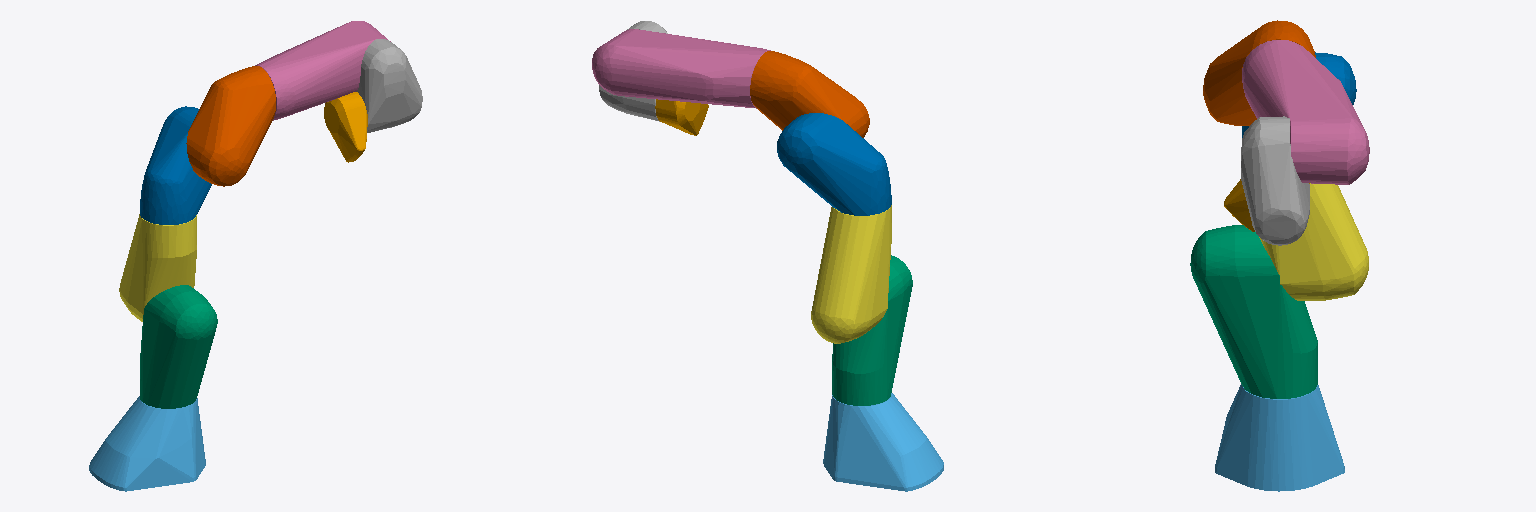
robot.urdf — fer:
<?xml version="1.0" ?>
<!-- =================================================================================== -->
<!-- |    This document was autogenerated by xacro from [local-path]/ws/franka/src/franka_description/robots/fer/fer.urdf.xacro | -->
<!-- |    EDITING THIS FILE BY HAND IS NOT RECOMMENDED                                 | -->
<!-- =================================================================================== -->
<robot name="fer">
  <!-- safety_distance: Minimum safety distance in [m] by which the collision volumes are expanded and which is enforced during robot motions -->
  <!-- arm_id: Namespace of the robot arm. Serves to differentiate between arms in case of multiple instances. -->
  <!-- joint_limits: description of the joint limits that comes from a YAML file. Example definition: ${xacro.load_yaml('$(find franka_description)/robots/fr3/joint_limits.yaml')} -->
  <!-- kinematics: description of the kinematics that comes from a YAML file. Example definition: ${xacro.load_yaml('$(find franka_description)/robots/fr3/kinematics.yaml')} -->
  <!-- inertials: description of the inertials that comes from a YAML file. Example definition: ${xacro.load_yaml('$(find franka_description)/robots/fr3/inertials.yaml')} -->
  <!-- dynamics: description of the dynamics that comes from a YAML file. Example definition: ${xacro.load_yaml('$(find franka_description)/robots/fr3/dynamics.yaml')} -->
  <link name="base">
      </link>
  <joint name="base_joint" type="fixed">
    <parent link="base"/>
    <child link="fer_link0"/>
    <origin rpy="0 0 0" xyz="0 0 0"/>
  </joint>
  <!-- sub-link defining detailed meshes for collision with environment -->
  <link name="fer_link0">
    <visual name="fer_link0_visual">
      <geometry>
        <mesh filename="../meshes/robot_arms/fer/visual/link0.dae"/>
      </geometry>
    </visual>
    
    <collision name="fer_link0_collision">
      <geometry>
        <mesh filename="../meshes/robot_arms/fer/collision/link0.obj"/>
      </geometry>
    </collision>
    <inertial>
      <origin rpy="0 0 0" xyz="-0.0172 0.0004 0.0745"/>
      <mass value="2.3966"/>
      <inertia ixx="0.009" ixy="0.0" ixz="0.002" iyy="0.0115" iyz="0.0" izz="0.0085"/>
    </inertial>
  </link>
  <!-- sub-link defining detailed meshes for collision with environment -->
  <link name="fer_link1">
    <visual name="fer_link1_visual">
      <geometry>
        <mesh filename="../meshes/robot_arms/fer/visual/link1.dae"/>
      </geometry>
    </visual>
    <collision name="fer_link1_collision">
      <geometry>
        <mesh filename="../meshes/robot_arms/fer/collision/link1.obj"/>
      </geometry>
    </collision>
    <inertial>
      <origin rpy="0 0 0" xyz="0.00033 -0.02204 -0.04762"/>
      <mass value="2.7907"/>
      <inertia ixx="0.01564782655" ixy="5.31236e-06" ixz="-3.676721e-05" iyy="0.01439883526" iyz="-0.00248480843" izz="0.00500443991"/>
    </inertial>
  </link>
  <joint name="fer_joint1" type="revolute">
    <origin rpy="0 0 0" xyz="0 0 0.333"/>
    <parent link="fer_link0"/>
    <child link="fer_link1"/>
    <axis xyz="0 0 1"/>
    <limit effort="87.0" lower="-2.8973" upper="2.8973" velocity="2.175"/>
    <safety_controller k_position="100.0" k_velocity="40.0" soft_lower_limit="-2.8973" soft_upper_limit="2.8973"/>
    <dynamics D="1" K="7000" damping="0.003" friction="0.2" mu_coulomb="0" mu_viscous="16"/>
  </joint>
  <!-- sub-link defining detailed meshes for collision with environment -->
  <link name="fer_link2">
    <visual name="fer_link2_visual">
      <geometry>
        <mesh filename="../meshes/robot_arms/fer/visual/link2.dae"/>
      </geometry>
    </visual>
    <collision name="fer_link2_collision">
      <geometry>
        <mesh filename="../meshes/robot_arms/fer/collision/link2.obj"/>
      </geometry>
    </collision>
    <inertial>
      <origin rpy="0 0 0" xyz="0.00038 -0.09211 0.01908"/>
      <mass value="2.542"/>
      <inertia ixx="0.01662427728" ixy="3.086077e-05" ixz="8.3594e-06" iyy="0.00462501261" iyz="0.0035589983" izz="0.01545124526"/>
    </inertial>
  </link>
  <joint name="fer_joint2" type="revolute">
    <origin rpy="-1.570796326794897 0 0" xyz="0 0 0"/>
    <parent link="fer_link1"/>
    <child link="fer_link2"/>
    <axis xyz="0 0 1"/>
    <limit effort="87.0" lower="-1.7628" upper="1.7628" velocity="2.175"/>
    <safety_controller k_position="100.0" k_velocity="40.0" soft_lower_limit="-1.7628" soft_upper_limit="1.7628"/>
    <dynamics D="1" K="7000" damping="0.003" friction="0.2" mu_coulomb="0" mu_viscous="16"/>
  </joint>
  <!-- sub-link defining detailed meshes for collision with environment -->
  <link name="fer_link3">
    <visual name="fer_link3_visual">
      <geometry>
        <mesh filename="../meshes/robot_arms/fer/visual/link3.dae"/>
      </geometry>
    </visual>
    <collision name="fer_link3_collision">
      <geometry>
        <mesh filename="../meshes/robot_arms/fer/collision/link3.obj"/>
      </geometry>
    </collision>
    <inertial>
      <origin rpy="0 0 0" xyz="0.05152 0.01696 -0.02971"/>
      <mass value="2.2513"/>
      <inertia ixx="0.00631741992" ixy="0.00097309955" ixz="0.00292525834" iyy="0.00866285493" iyz="0.00093469224" izz="0.00657804051"/>
    </inertial>
  </link>
  <joint name="fer_joint3" type="revolute">
    <origin rpy="1.570796326794897 0 0" xyz="0 -0.316 0"/>
    <parent link="fer_link2"/>
    <child link="fer_link3"/>
    <axis xyz="0 0 1"/>
    <limit effort="87.0" lower="-2.8973" upper="2.8973" velocity="2.175"/>
    <safety_controller k_position="100.0" k_velocity="40.0" soft_lower_limit="-2.8973" soft_upper_limit="2.8973"/>
    <dynamics D="1" K="7000" damping="0.003" friction="0.2" mu_coulomb="0" mu_viscous="16"/>
  </joint>
  <!-- sub-link defining detailed meshes for collision with environment -->
  <link name="fer_link4">
    <visual name="fer_link4_visual">
      <geometry>
        <mesh filename="../meshes/robot_arms/fer/visual/link4.dae"/>
      </geometry>
    </visual>
    <collision name="fer_link4_collision">
      <geometry>
        <mesh filename="../meshes/robot_arms/fer/collision/link4.obj"/>
      </geometry>
    </collision>
    <inertial>
      <origin rpy="0 0 0" xyz="-0.05113 0.05825 0.01698"/>
      <mass value="2.2037"/>
      <inertia ixx="0.03452998321913202" ixy="0.01322552265982813" ixz="0.01015142998484113" iyy="0.028881621933049058" iyz="-0.0009762833870704552" izz="0.04125471171146641"/>
    </inertial>
  </link>
  <joint name="fer_joint4" type="revolute">
    <origin rpy="1.570796326794897 0 0" xyz="0.0825 0 0"/>
    <parent link="fer_link3"/>
    <child link="fer_link4"/>
    <axis xyz="0 0 1"/>
    <limit effort="87.0" lower="-3.0718" upper="-0.0698" velocity="2.175"/>
    <safety_controller k_position="100.0" k_velocity="40.0" soft_lower_limit="-3.0718" soft_upper_limit="-0.0698"/>
    <dynamics D="1" K="7000" damping="0.003" friction="0.2" mu_coulomb="0" mu_viscous="16"/>
  </joint>
  <!-- sub-link defining detailed meshes for collision with environment -->
  <link name="fer_link5">
    <visual name="fer_link5_visual">
      <geometry>
        <mesh filename="../meshes/robot_arms/fer/visual/link5.dae"/>
      </geometry>
    </visual>
    <collision name="fer_link5_collision">
      <geometry>
        <mesh filename="../meshes/robot_arms/fer/collision/link5.obj"/>
      </geometry>
    </collision>
    <inertial>
      <origin rpy="0 0 0" xyz="-0.00005 0.03730 -0.09280"/>
      <mass value="2.2855"/>
      <inertia ixx="0.02297014781" ixy="-9.49345e-06" ixz="-2.063156e-05" iyy="0.02095060919" iyz="0.00382345782" izz="0.00430606551"/>
    </inertial>
  </link>
  <joint name="fer_joint5" type="revolute">
    <origin rpy="-1.570796326794897 0 0" xyz="-0.0825 0.384 0"/>
    <parent link="fer_link4"/>
    <child link="fer_link5"/>
    <axis xyz="0 0 1"/>
    <limit effort="25.0" lower="-2.8973" upper="2.8973" velocity="2.61"/>
    <safety_controller k_position="100.0" k_velocity="40.0" soft_lower_limit="-2.8973" soft_upper_limit="2.8973"/>
    <dynamics D="1" K="7000" damping="0.003" friction="0.2" mu_coulomb="0" mu_viscous="16"/>
  </joint>
  <!-- sub-link defining detailed meshes for collision with environment -->
  <link name="fer_link6">
    <visual name="fer_link6_visual">
      <geometry>
        <mesh filename="../meshes/robot_arms/fer/visual/link6.dae"/>
      </geometry>
    </visual>
    <collision name="fer_link6_collision">
      <geometry>
        <mesh filename="../meshes/robot_arms/fer/collision/link6.obj"/>
      </geometry>
    </collision>
    <inertial>
      <origin rpy="0 0 0" xyz="0.06572 -0.00371 0.00153"/>
      <mass value="1.353"/>
      <inertia ixx="0.00087964522" ixy="-0.00021487814" ixz="-0.00011911662" iyy="0.00277796968" iyz="1.274322e-05" izz="0.00286701969"/>
    </inertial>
  </link>
  <joint name="fer_joint6" type="revolute">
    <origin rpy="1.570796326794897 0 0" xyz="0 0 0"/>
    <parent link="fer_link5"/>
    <child link="fer_link6"/>
    <axis xyz="0 0 1"/>
    <limit effort="25.0" lower="-0.0175" upper="3.7525" velocity="2.61"/>
    <safety_controller k_position="100.0" k_velocity="40.0" soft_lower_limit="-0.0175" soft_upper_limit="3.7525"/>
    <dynamics D="1" K="7000" damping="0.003" friction="0.2" mu_coulomb="0" mu_viscous="16"/>
  </joint>
  <!-- sub-link defining detailed meshes for collision with environment -->
  <link name="fer_link7">
    <visual name="fer_link7_visual">
      <geometry>
        <mesh filename="../meshes/robot_arms/fer/visual/link7.dae"/>
      </geometry>
    </visual>
    <collision name="fer_link7_collision">
      <geometry>
        <mesh filename="../meshes/robot_arms/fer/collision/link7.obj"/>
      </geometry>
    </collision>
    <inertial>
      <origin rpy="0 0 0" xyz="0.00089 -0.00044 0.05491"/>
      <mass value="0.35973"/>
      <inertia ixx="0.00019541063" ixy="1.65231e-06" ixz="1.48826e-06" iyy="0.00019210361" iyz="-1.31132e-06" izz="0.00017936256"/>
    </inertial>
  </link>
  <joint name="fer_joint7" type="revolute">
    <origin rpy="1.570796326794897 0 0" xyz="0.088 0 0"/>
    <parent link="fer_link6"/>
    <child link="fer_link7"/>
    <axis xyz="0 0 1"/>
    <limit effort="12.0" lower="-2.8973" upper="2.8973" velocity="2.61"/>
    <safety_controller k_position="100.0" k_velocity="40.0" soft_lower_limit="-2.8973" soft_upper_limit="2.8973"/>
    <dynamics D="1" K="7000" damping="0.003" friction="0.2" mu_coulomb="0" mu_viscous="16"/>
  </joint>
</robot>

--- Facts derived from the render (not from the file) ---
The picture shows the robot from 3 angles, left to right: view 1: azimuth 30°, elevation 25°; view 2: azimuth 150°, elevation 25°; view 3: azimuth 270°, elevation 25°; orthographic projection.
Robot: fer — 9 links, 8 joints (7 revolute, 1 fixed); root link base; default pose: all joints at 0 but 1 set to mid-range because 0 is outside their limits (fer_joint4 = -1.57).
Links seen in each view (by area): view 1: fer_link0, fer_link1, fer_link4, fer_link5, fer_link3, fer_link2, fer_link6, fer_link7; view 2: fer_link5, fer_link2, fer_link0, fer_link3, fer_link1, fer_link4, fer_link7, fer_link6; view 3: fer_link1, fer_link5, fer_link0, fer_link2, fer_link6, fer_link4, fer_link3, fer_link7.
Boxes of the visible links, x1,y1,x2,y2 form: fer_link0: (89, 396, 205, 491); fer_link1: (140, 285, 217, 408); fer_link4: (186, 66, 275, 186); fer_link5: (255, 21, 390, 120); fer_link3: (140, 106, 211, 224); fer_link2: (119, 214, 196, 321); fer_link6: (356, 39, 422, 132); fer_link7: (324, 92, 367, 162); fer_link5: (592, 29, 770, 108); fer_link2: (811, 205, 891, 343); fer_link0: (823, 393, 943, 491); fer_link3: (777, 113, 891, 215); fer_link1: (832, 255, 912, 405); fer_link4: (750, 51, 869, 137); fer_link7: (655, 99, 708, 135); fer_link6: (599, 21, 667, 121); fer_link1: (1190, 225, 1317, 398); fer_link5: (1242, 40, 1369, 184); fer_link0: (1215, 384, 1344, 491); fer_link2: (1259, 183, 1368, 300); fer_link6: (1241, 116, 1309, 245); fer_link4: (1203, 20, 1315, 125); fer_link3: (1242, 52, 1356, 137); fer_link7: (1224, 179, 1309, 231).
Size in the robot's own frame: 0.7023 by 0.2593 by 0.7866 metres.
8 mesh visuals loaded from 8 distinct referenced files (8 Collada DAE).
